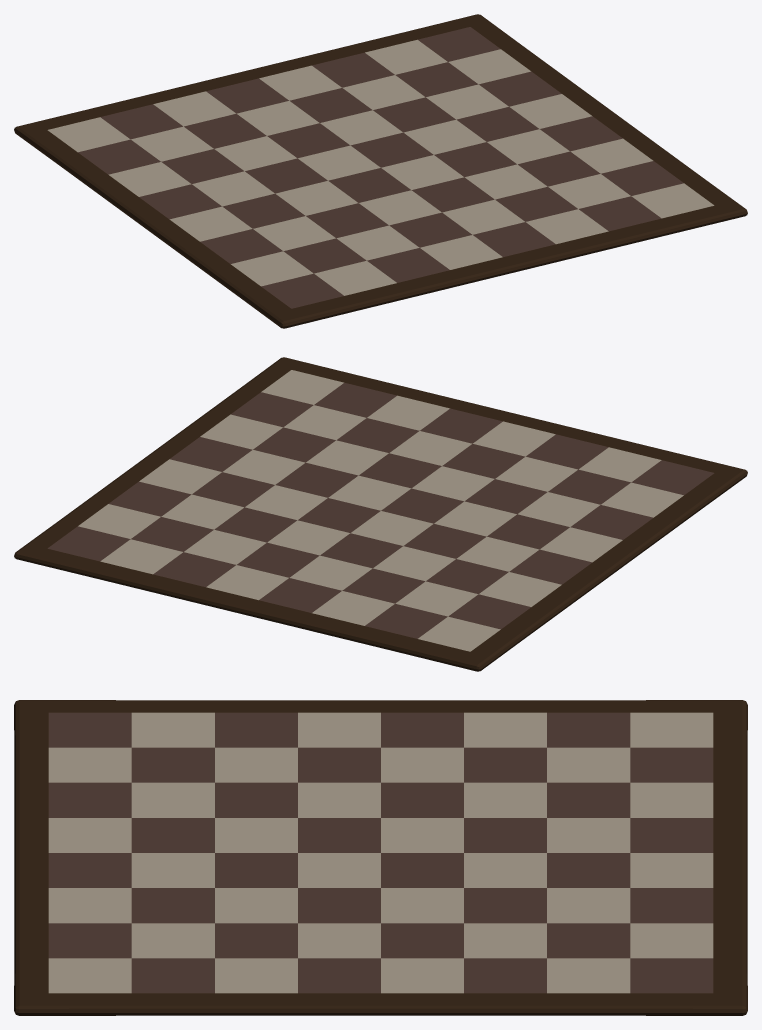
The model's file is board.glb.
3 renders of one model, top to bottom at view 1: azimuth 30°, elevation 25°; view 2: azimuth 150°, elevation 25°; view 3: azimuth 270°, elevation 25°, orthographic. The views are drawn at different scales.
Parts seen in each view (by area): view 1: board; view 2: board; view 3: board.
Boxes of the visible parts, x1,y1,x2,y2 form: board: (14,14,747,328); board: (14,357,747,671); board: (14,700,747,1015).
Size of the model in its own units: 9.56 by 0.1434 by 9.56.
